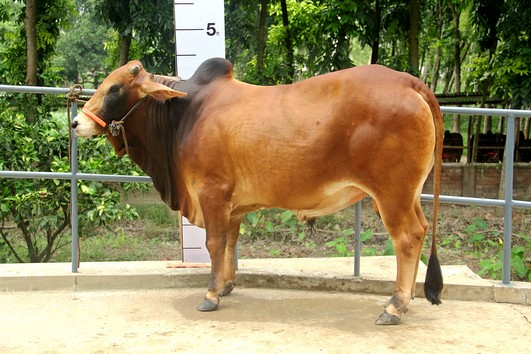cow: (63, 50, 457, 334)
